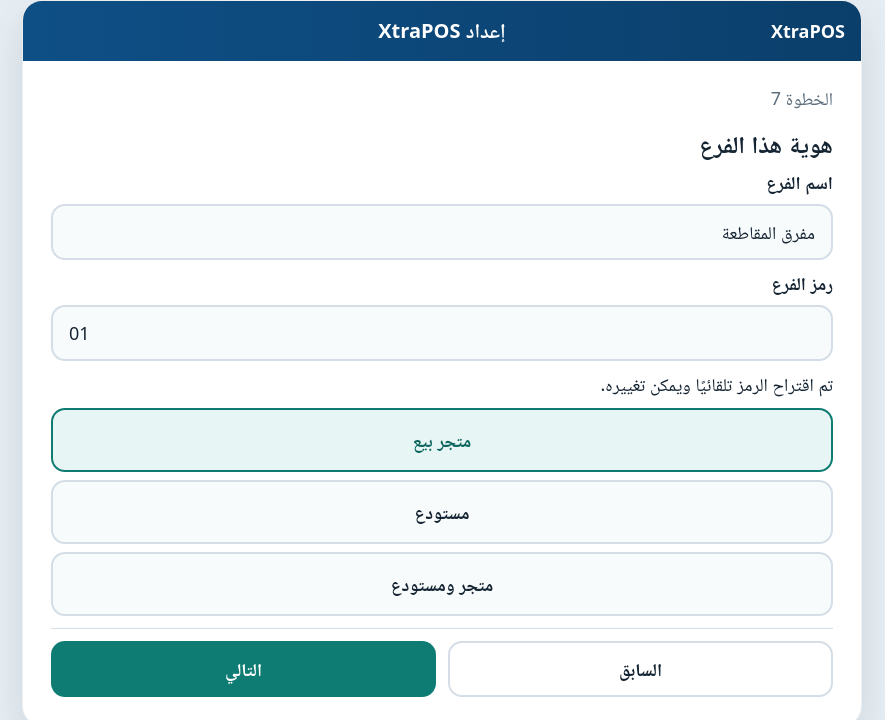
Scenario: setup wizard QA blockers › accepts an existing branch's own code and rejects another branch's code
Click the button "التالي": {"x": 244, "y": 669} left=51, top=641, right=436, bottom=697
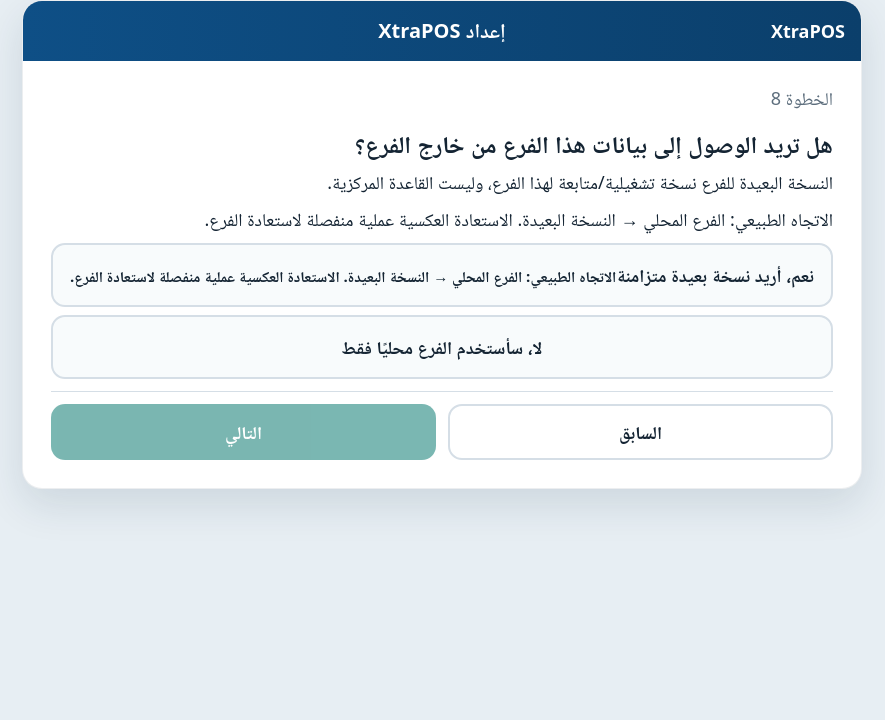
Expected: the heading "هل تريد الوصول إلى بيانات هذا الفرع من خارج الفرع؟" is shown, left=355, top=128, right=833, bottom=160
